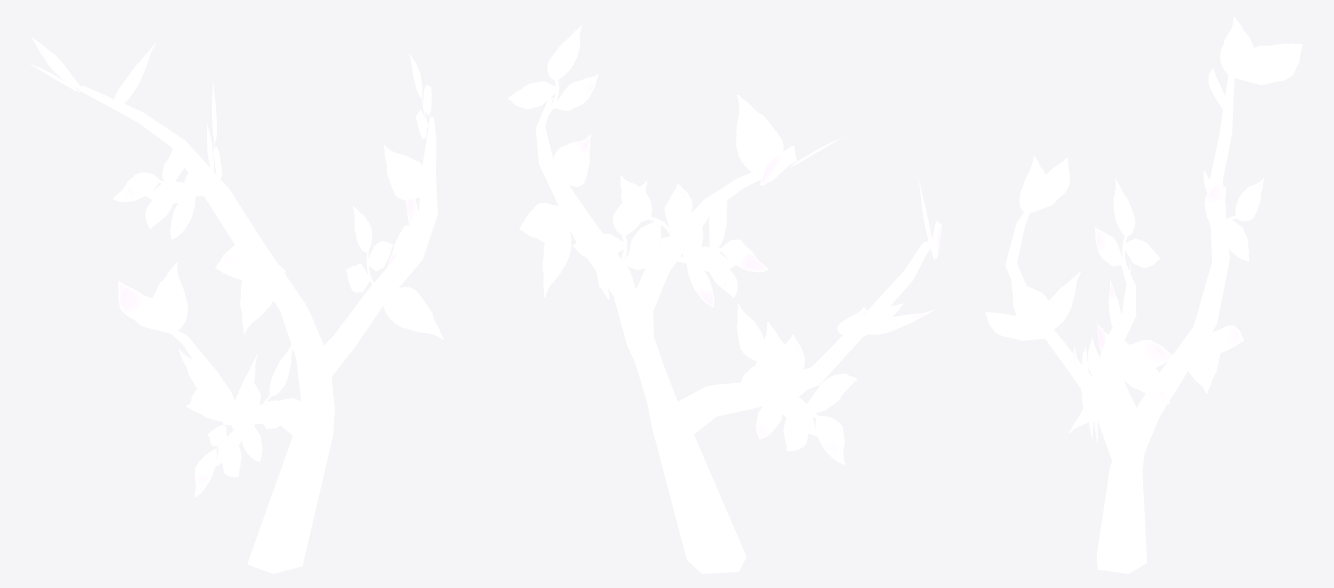
3 views of the same model, side by side, from view 1: azimuth 30°, elevation 25°; view 2: azimuth 150°, elevation 25°; view 3: azimuth 270°, elevation 25° (orthographic). The views are drawn at different scales.
Parts seen in each view (by area): view 1: SM_Cadavaberry_Bush_v3_LOD0; view 2: SM_Cadavaberry_Bush_v3_LOD0; view 3: SM_Cadavaberry_Bush_v3_LOD0.
Part boxes in pixels (<box>): SM_Cadavaberry_Bush_v3_LOD0: <box>29,37,443,573</box>; SM_Cadavaberry_Bush_v3_LOD0: <box>508,25,941,573</box>; SM_Cadavaberry_Bush_v3_LOD0: <box>985,17,1302,573</box>.
Size of the model in its own units: 0.8689 by 1.09 by 0.7316.
Materials: 1 (1 with a texture image).
